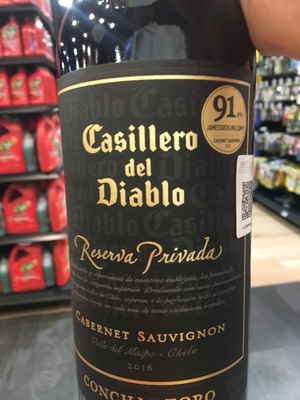casillero del diablo reserva privada cabernet sauvignon: (51, 3, 275, 400)
